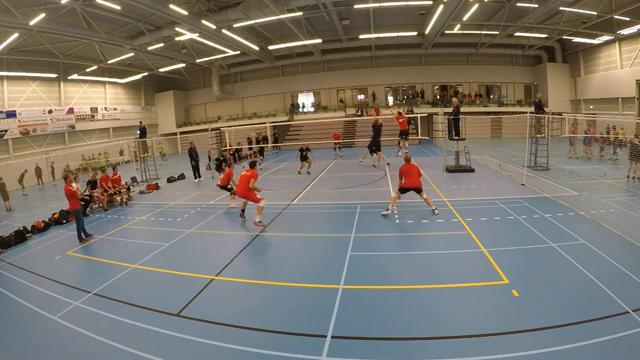Block: (365, 104, 387, 169), (391, 106, 412, 158)
Player: (382, 154, 438, 214), (236, 160, 264, 226), (217, 162, 236, 206), (297, 144, 314, 174), (214, 152, 229, 176), (255, 133, 264, 169), (232, 142, 244, 167), (332, 129, 342, 156)
